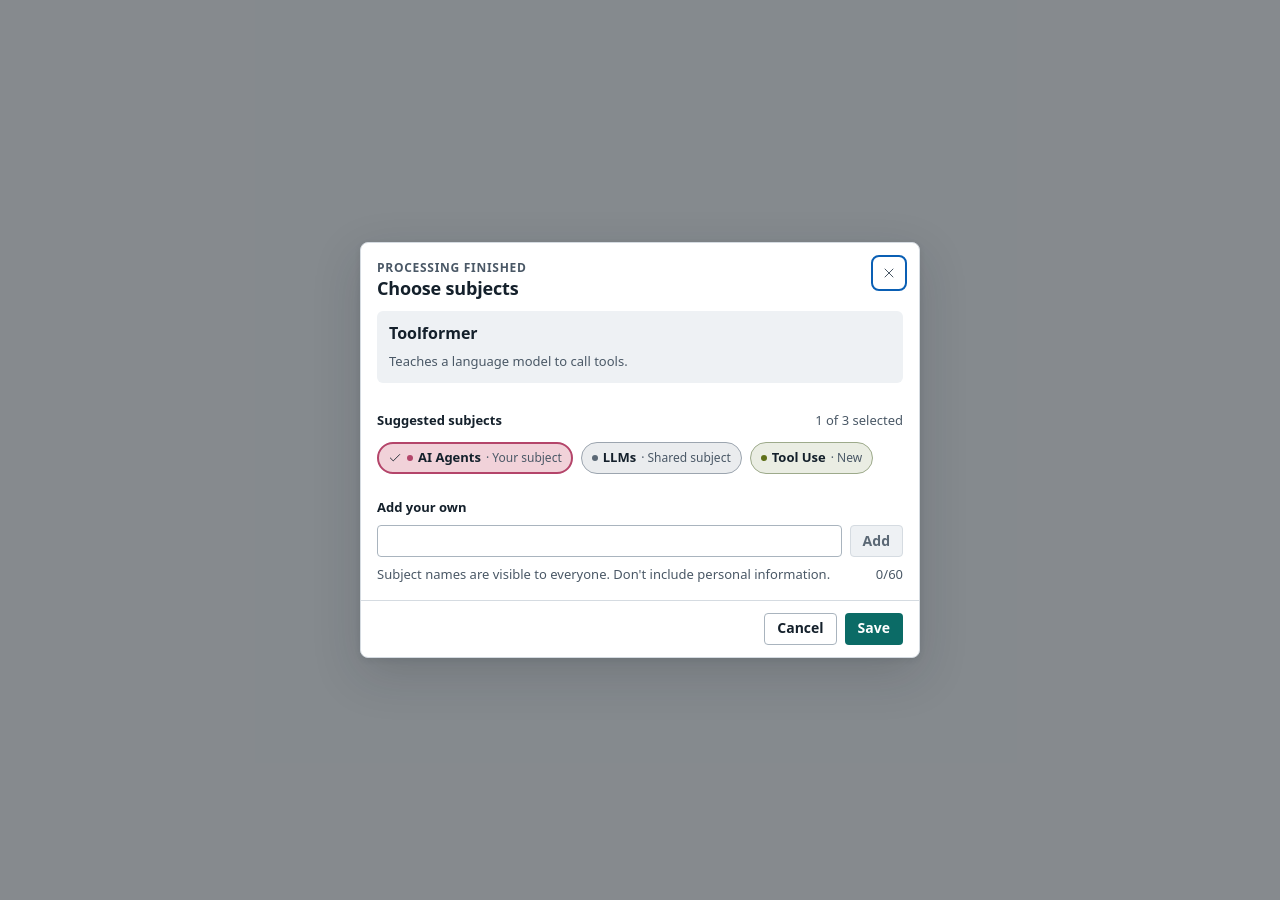
Test: SubjectPicker › disables Save with nothing selected and says why
Click the button "AI Agents · Your subject": click(475, 458) top-left (377, 442), bottom-right (573, 474)
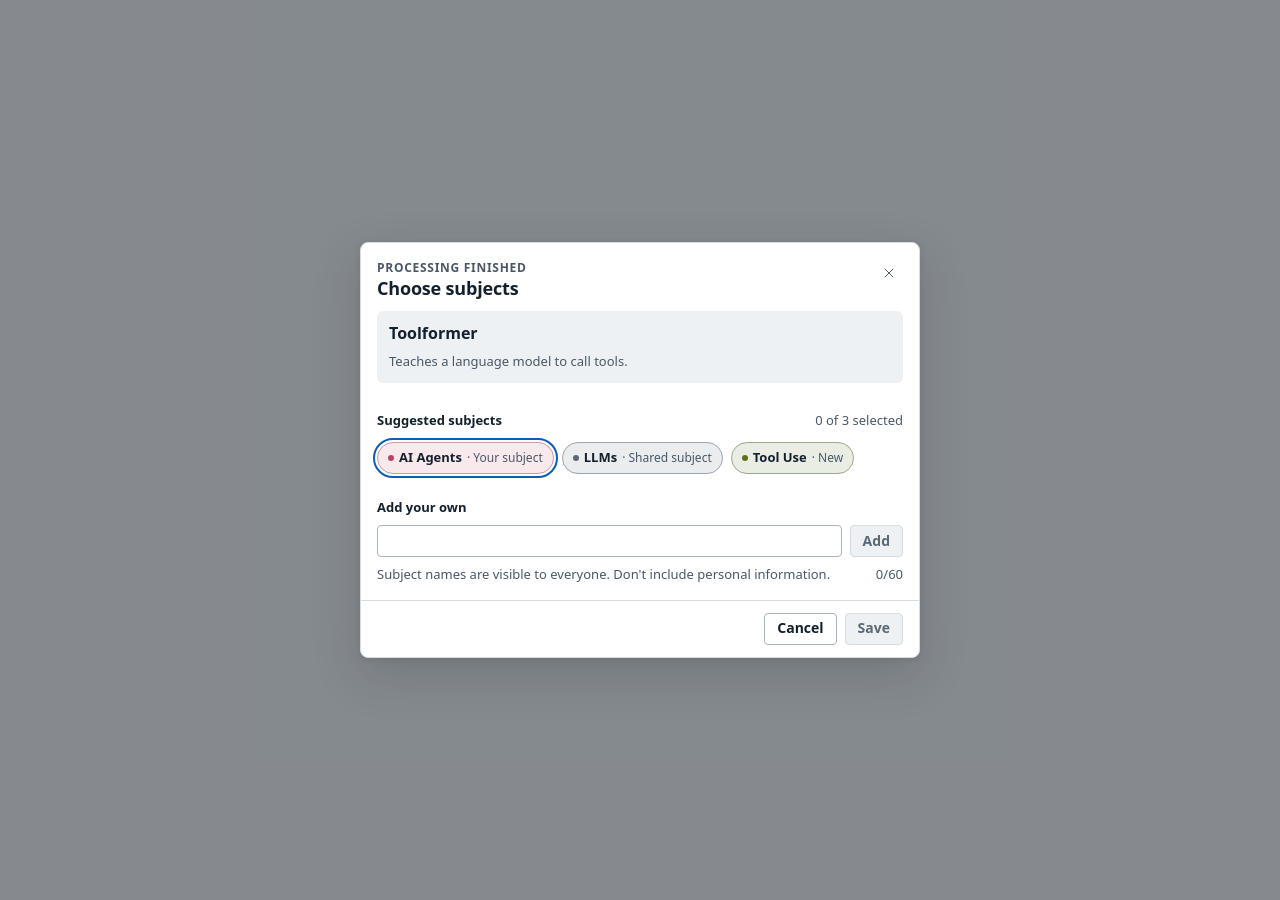
Now the text "0 of 3 selected" is shown, box top-left (815, 411), bottom-right (903, 430)
Now the button "Save" is disabled, box top-left (845, 613), bottom-right (903, 645)
